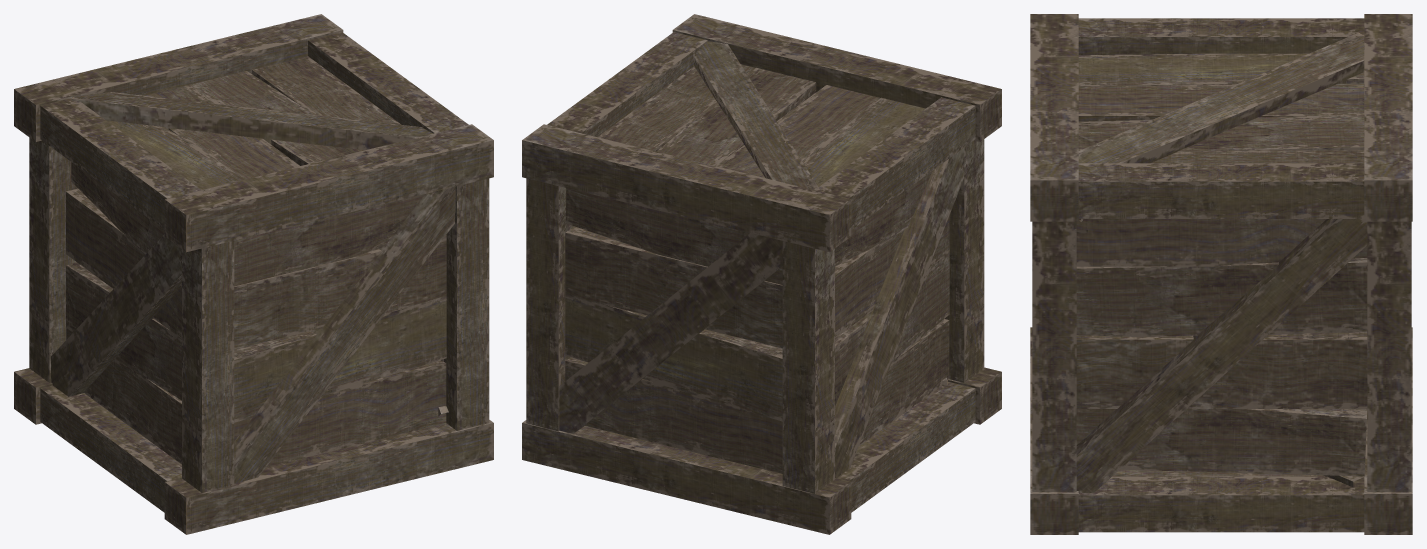
The model's file is Props_WoodCrate.fbx.
3 renders of one model, left to right at view 1: azimuth 30°, elevation 25°; view 2: azimuth 150°, elevation 25°; view 3: azimuth 270°, elevation 25°, orthographic. The views are drawn at different scales.
Parts seen in each view (by area): view 1: CDTMesh_WoodCrate; view 2: CDTMesh_WoodCrate; view 3: CDTMesh_WoodCrate.
Boxes of the visible parts, left/top/right/bottom form: CDTMesh_WoodCrate: left=14, top=14, right=493, bottom=534; CDTMesh_WoodCrate: left=522, top=14, right=1001, bottom=534; CDTMesh_WoodCrate: left=1030, top=14, right=1412, bottom=534.
Size of what is drawn, in the model's own units: 1.13 by 1.12 by 1.09.
1 material, 1 textured.
